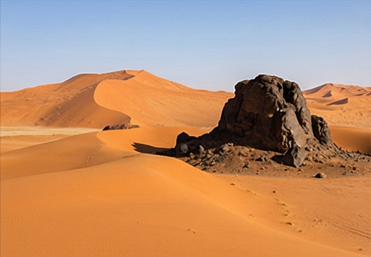rocks: (183, 74, 331, 155)
